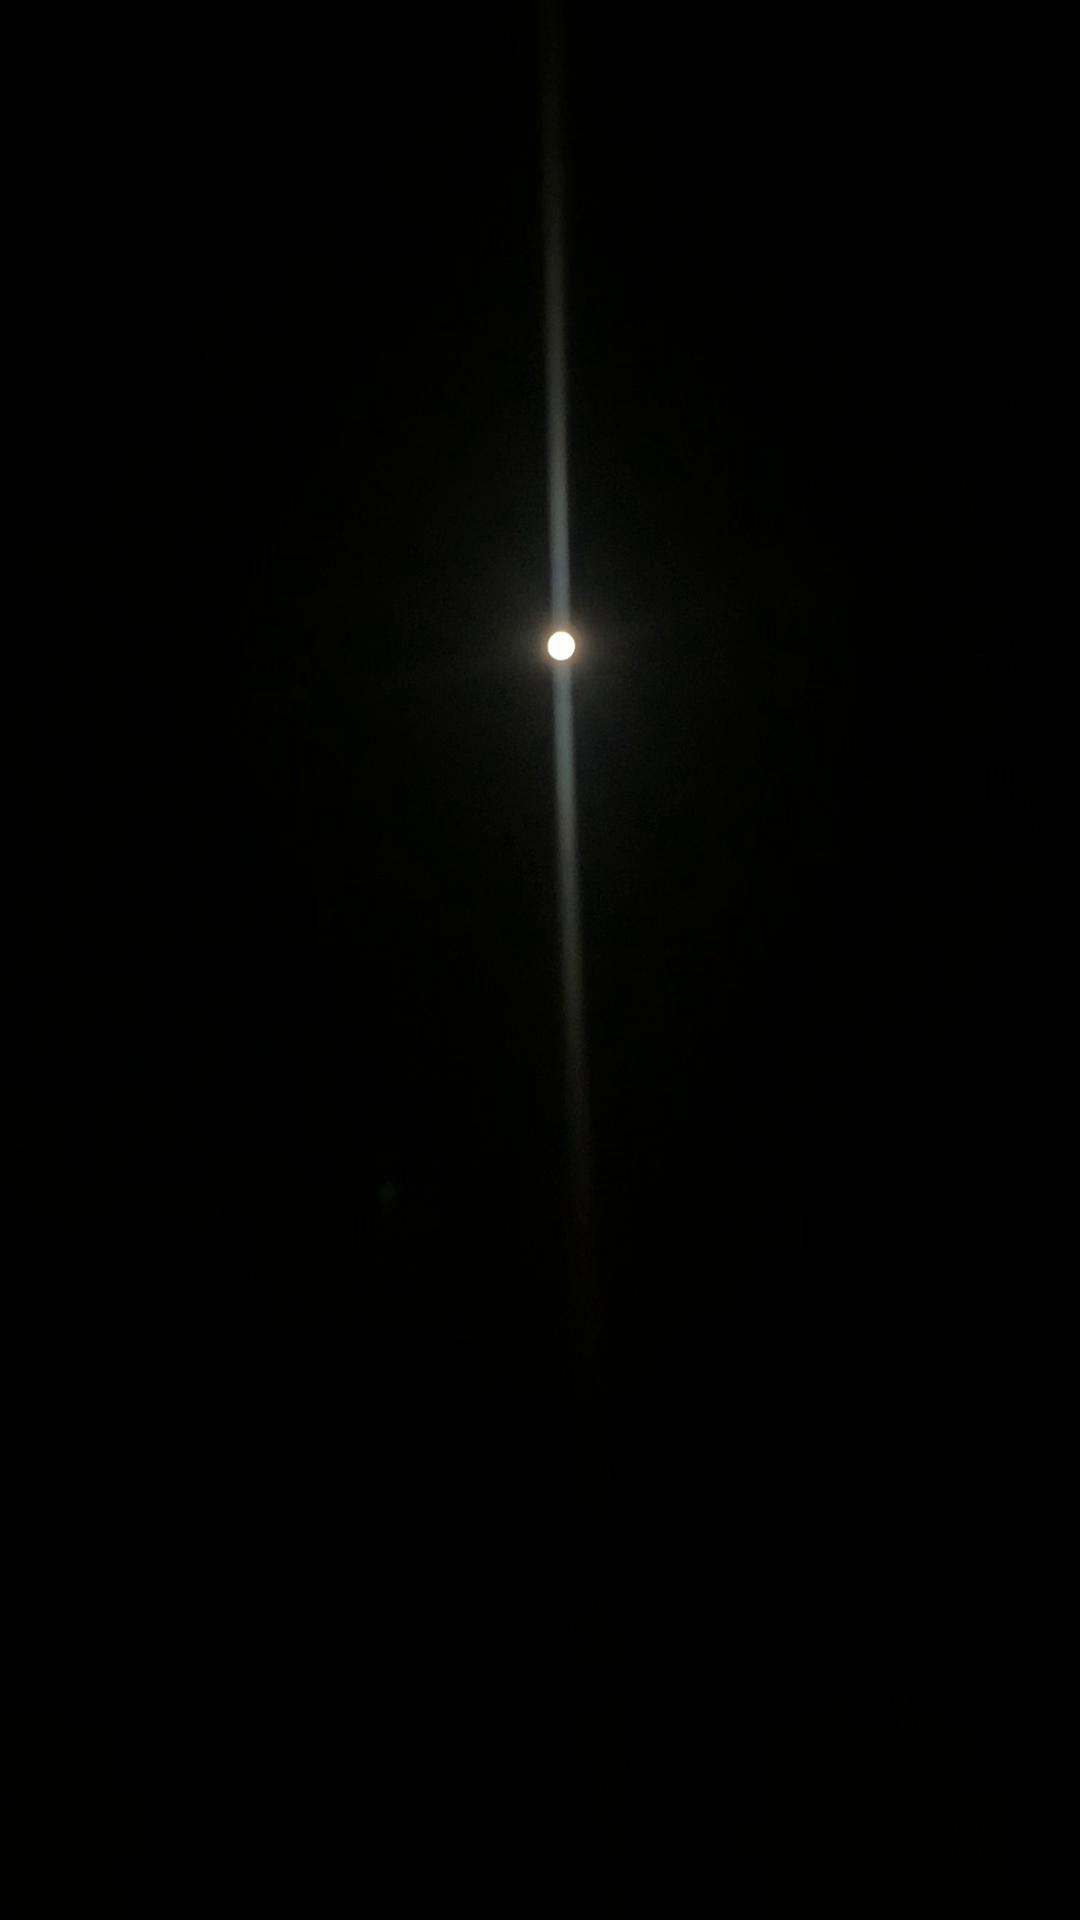moon: (512, 604, 620, 703)
